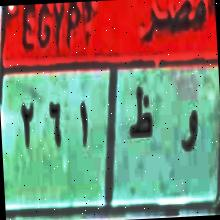1: (76, 97, 91, 151)
2: (18, 100, 38, 152)
6: (45, 99, 64, 152)
Thaa: (125, 80, 155, 150)
waw: (178, 92, 200, 158)
